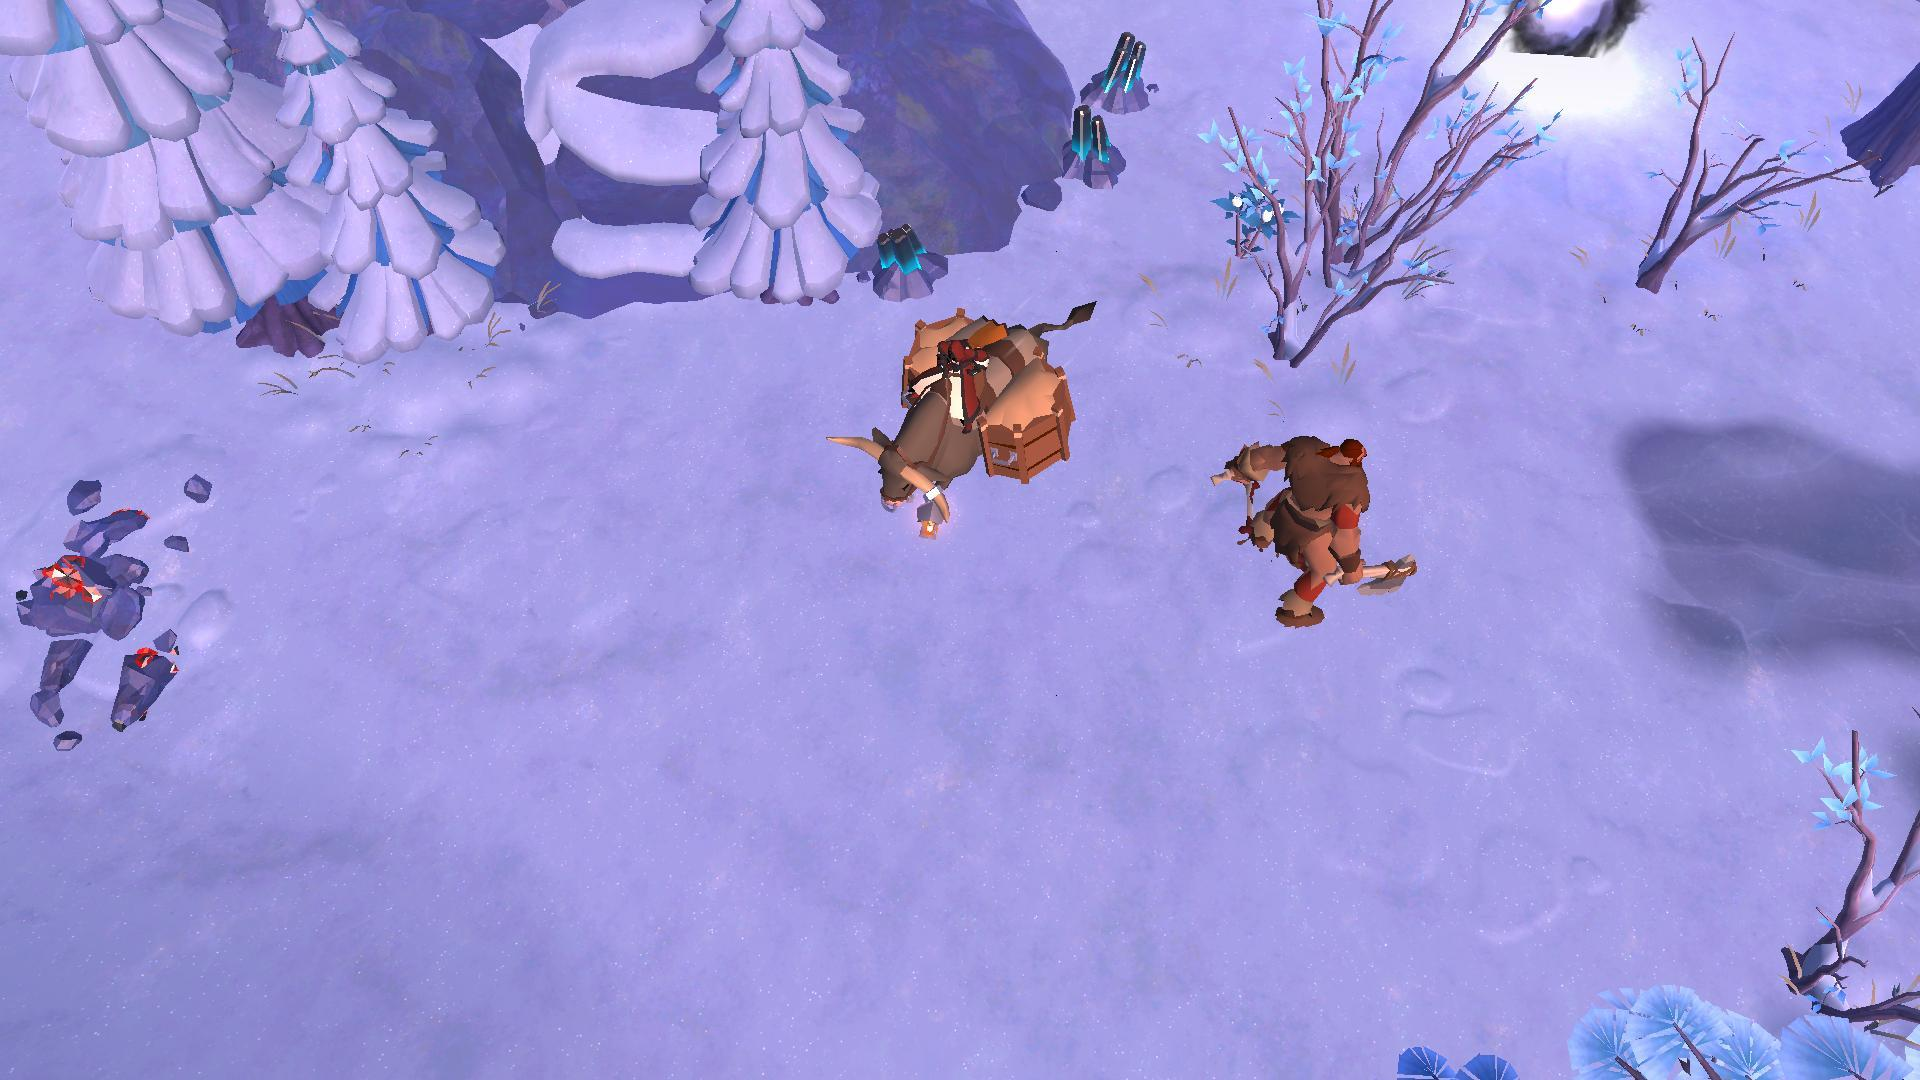enemy_factionKeeper: (1230, 425, 1403, 641)
fiber_t4: (1213, 183, 1299, 258)
ore_t4: (1092, 29, 1153, 96), (870, 220, 927, 284), (1063, 103, 1112, 166)
